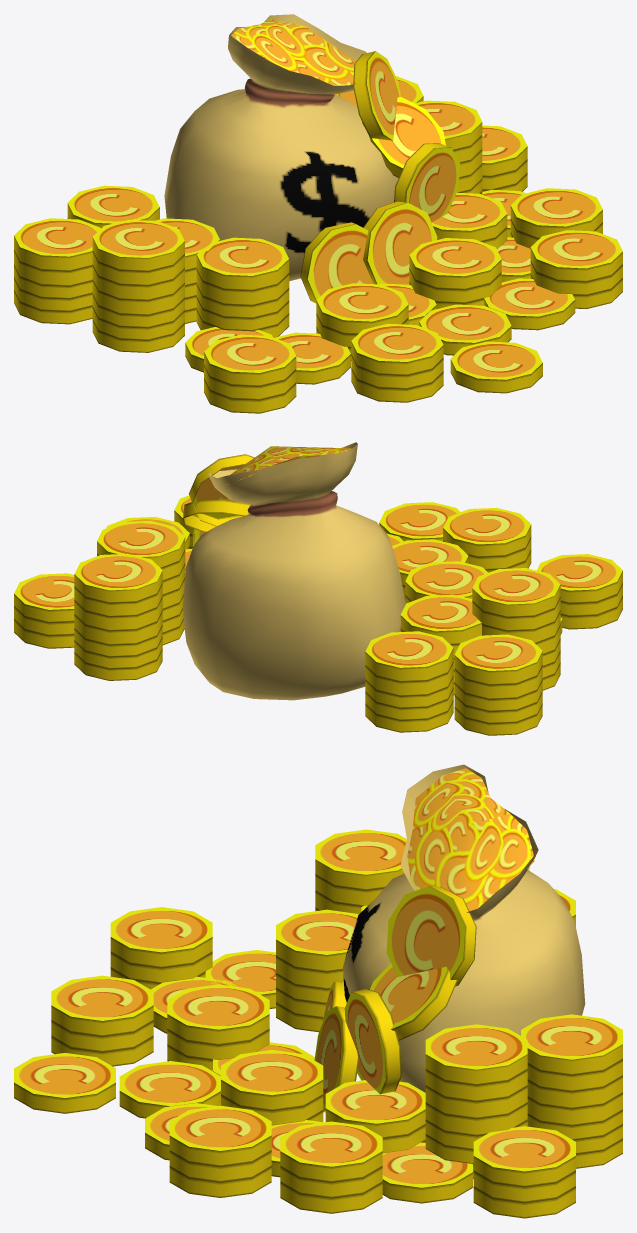
The model's file is dolfukuro.fbx.
3 renders of one model, top to bottom at view 1: azimuth 30°, elevation 25°; view 2: azimuth 150°, elevation 25°; view 3: azimuth 270°, elevation 25°, orthographic. The views are drawn at different scales.
Visible parts, largest first — view 1: coin_2, coin_1, pCube3, coin_3, coin_4, pCone1; view 2: pCube3, coin_3, coin_4, coin_2, coin_1, pCone1; view 3: coin_2, coin_1, coin_4, pCube3, pCone1, coin_3.
Part boxes in pixels (box(x1,y1,x2,y2)): coin_2: box(204, 125, 622, 413); coin_1: box(185, 51, 575, 393); pCube3: box(164, 14, 398, 281); coin_3: box(14, 185, 289, 337); coin_4: box(92, 76, 482, 352); pCone1: box(231, 19, 355, 85); pCube3: box(183, 442, 405, 700); coin_3: box(365, 561, 542, 735); coin_4: box(74, 521, 560, 690); coin_2: box(14, 495, 622, 648); coin_1: box(183, 454, 562, 634); pCone1: box(226, 446, 351, 484); coin_2: box(51, 907, 575, 1218); coin_1: box(14, 886, 476, 1203); coin_4: box(315, 829, 622, 1178); pCube3: box(343, 764, 585, 1092); pCone1: box(407, 768, 534, 911); coin_3: box(276, 867, 575, 1032).
Size of the model in its own units: 2.6 by 1.21 by 2.27.
1 material, 1 textured.
